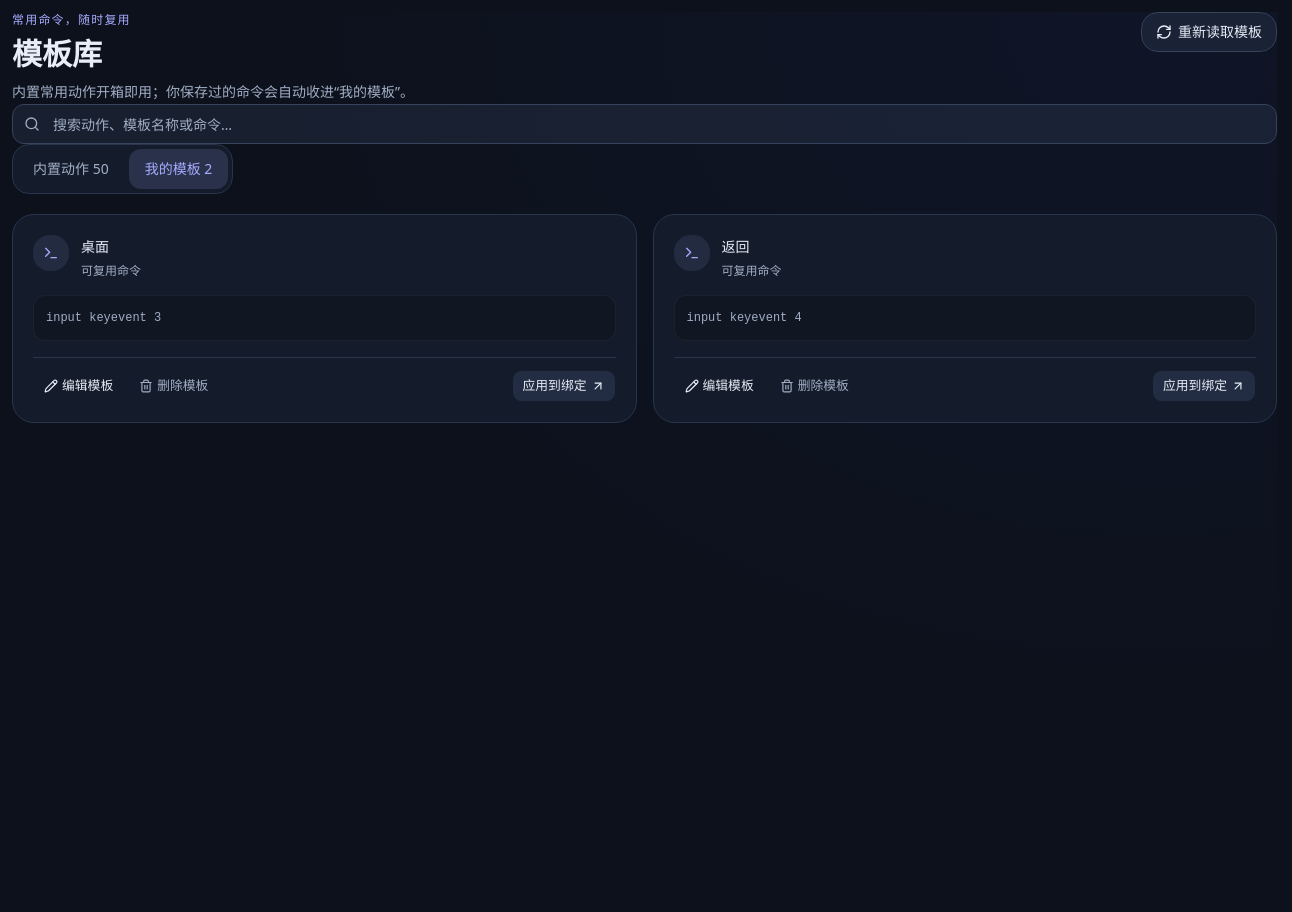
Test: searches name/command and validates duplicate edits before replacing a template
Type "keyevent 3" into the field named "搜索模板".
click(644, 124); type("keyevent 3")  # box [12, 104, 1277, 144]
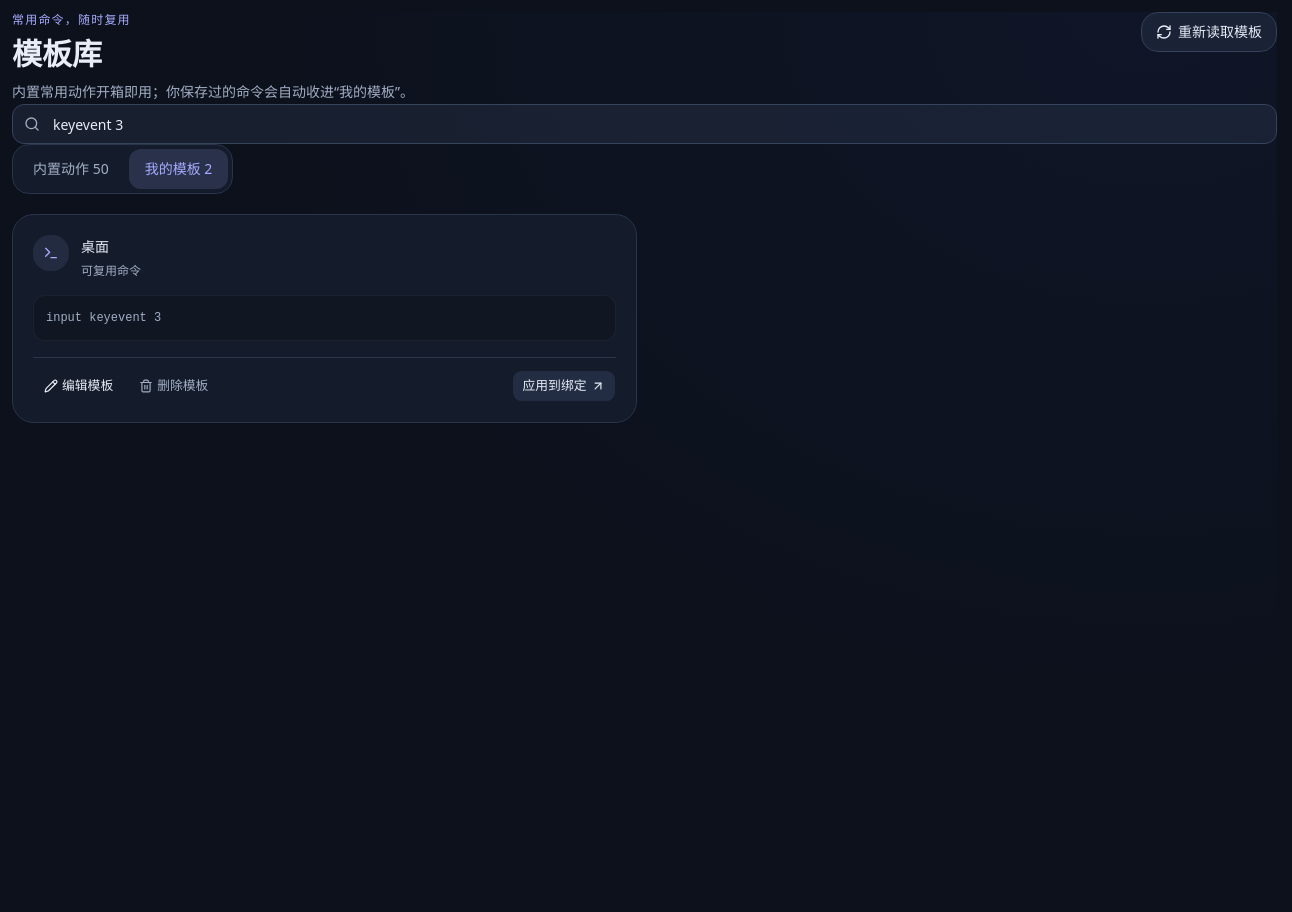
Expected: the heading "桌面" is shown, [81, 237, 109, 256]
Expected: the heading "返回" is gone
Click the button "编辑模板".
click(79, 386)  # box [33, 370, 124, 402]
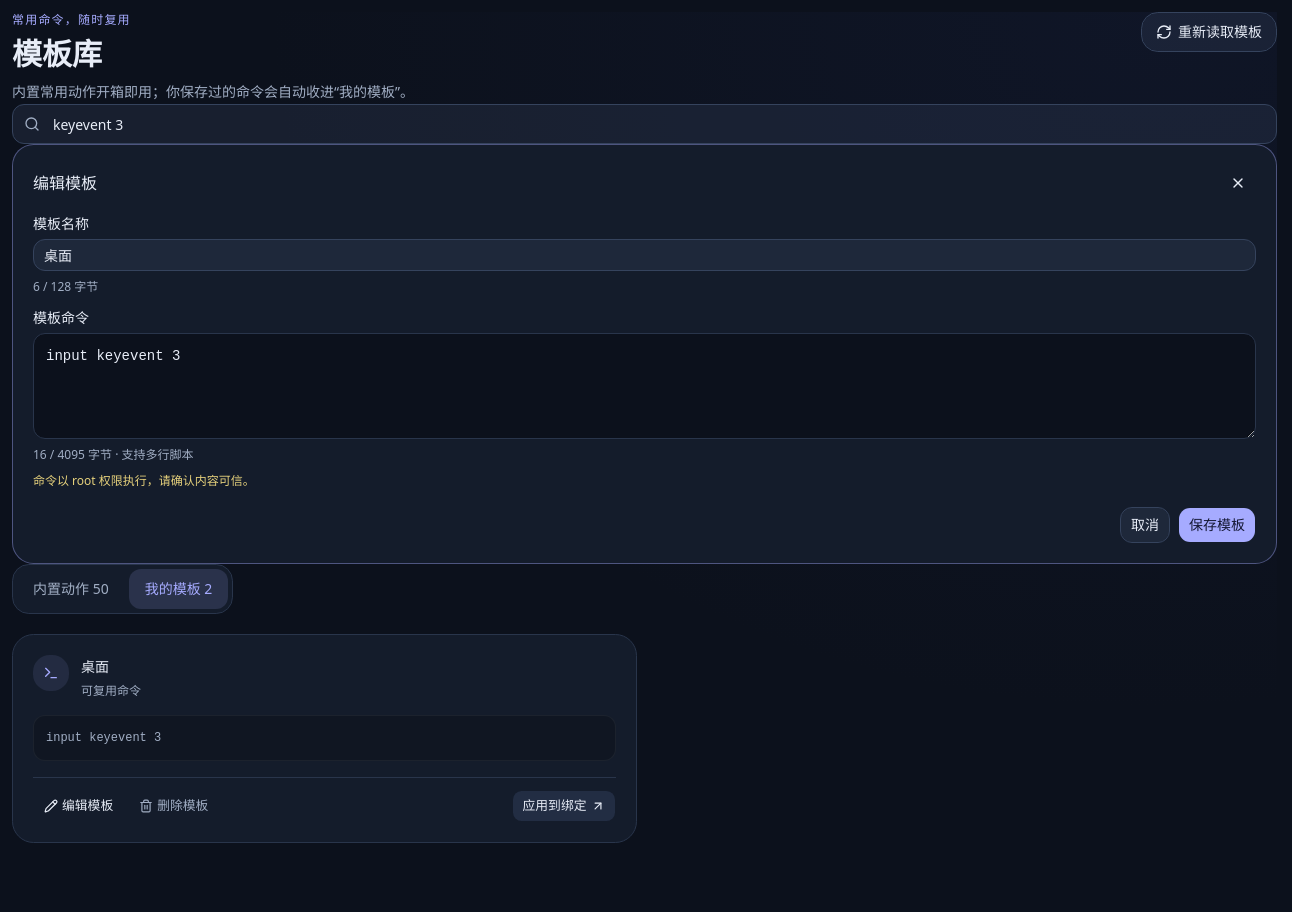
Replace the text in the text box labelled "模板命令" with "input keyevent 4" at (644, 386), box [33, 333, 1256, 439]
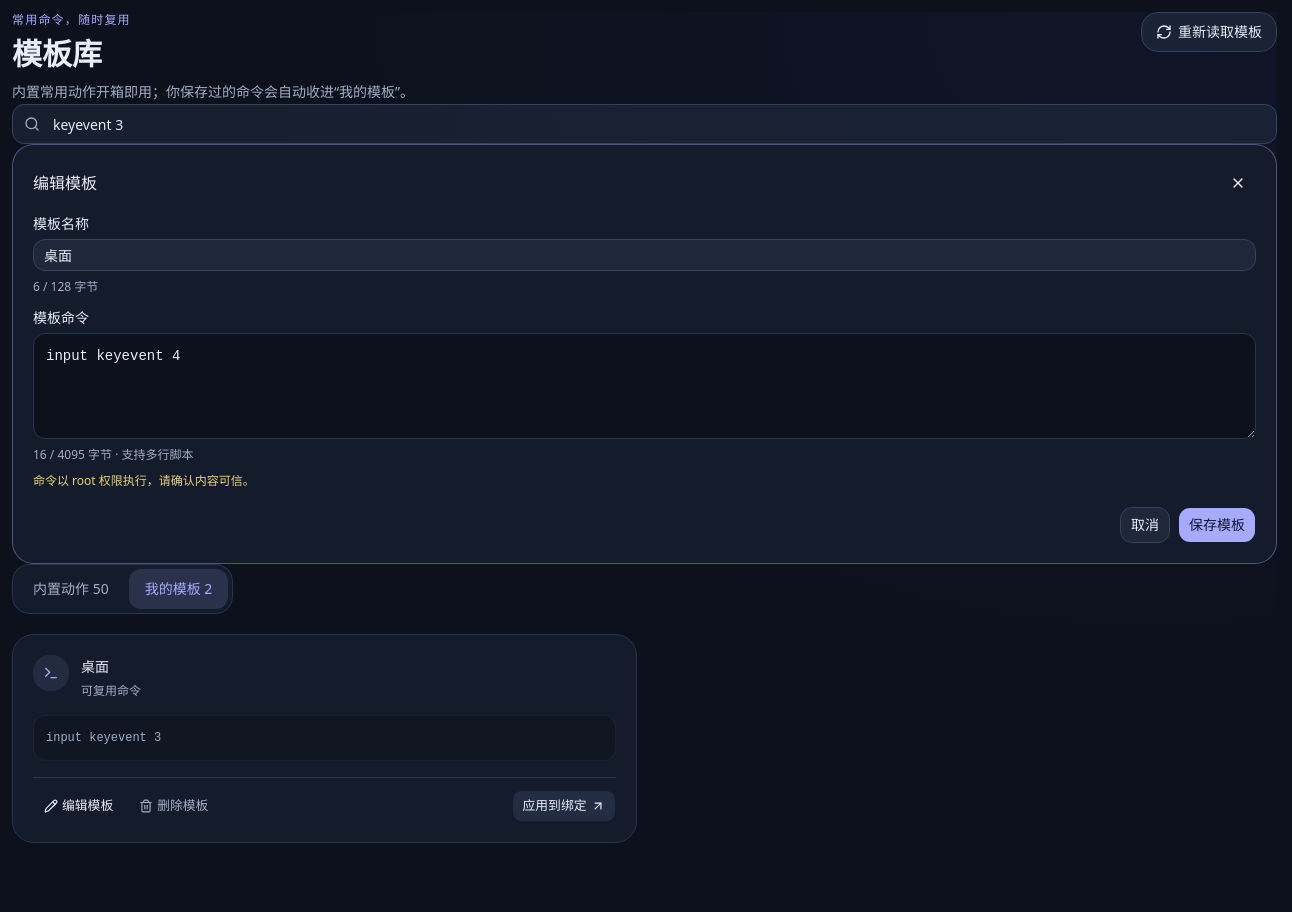
Click the button "保存模板".
click(1217, 525)  # box [1178, 507, 1256, 543]
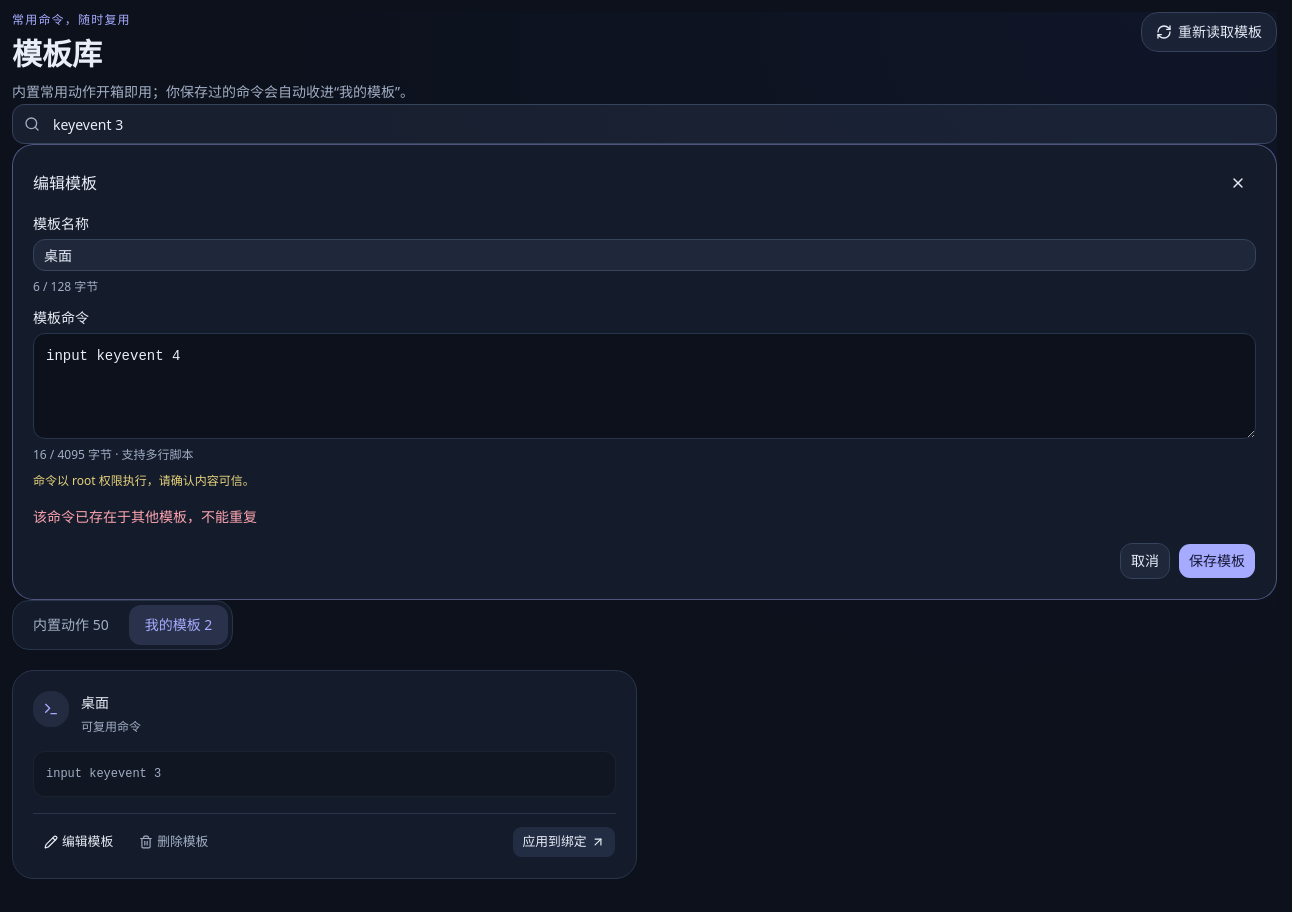
Expected: the field labelled "模板名称" is shown, [33, 239, 1256, 271]
Expected: the message reads "该命令已存在于其他模板，不能重复", [33, 507, 257, 526]
